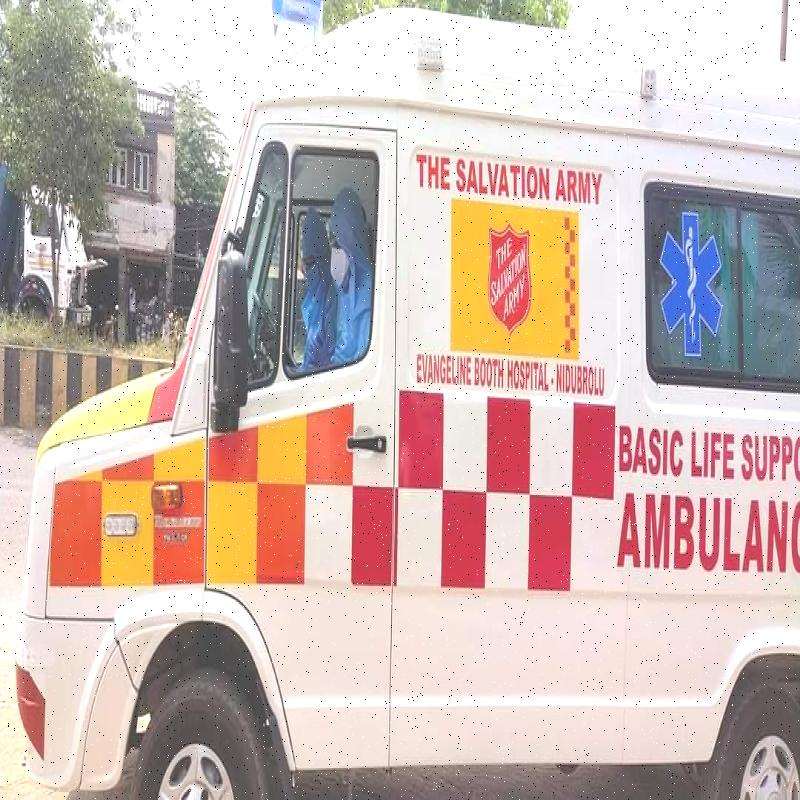ambulance: (20, 16, 800, 799)
